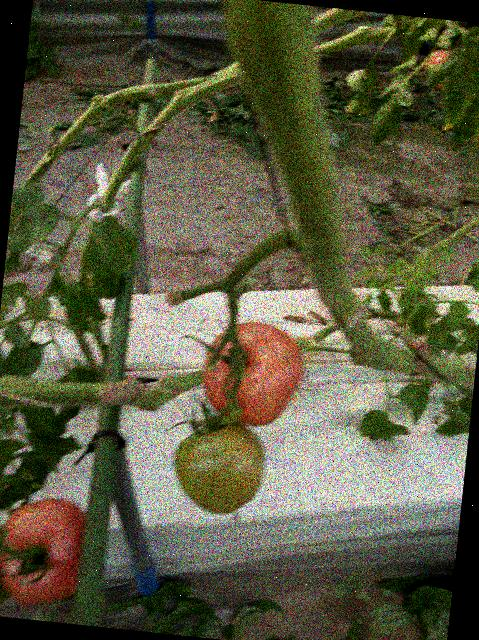b_fully_ripened: (198, 317, 306, 430), (0, 493, 86, 610)
b_green: (167, 416, 269, 519)
